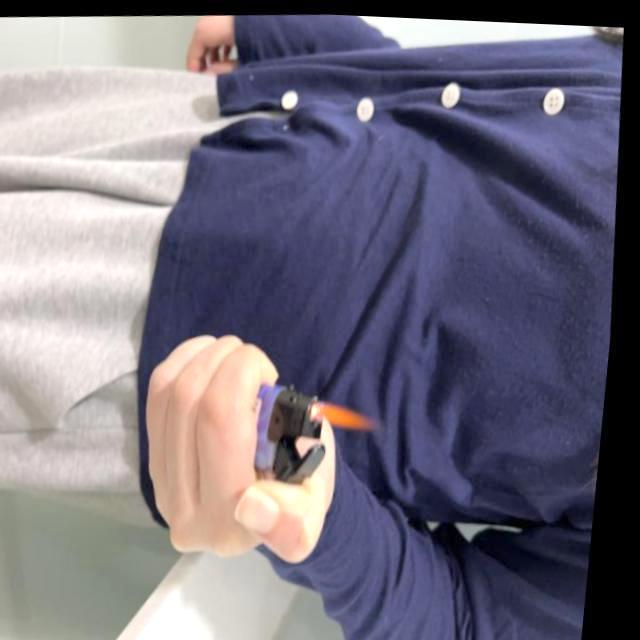fire: (314, 394, 386, 431)
